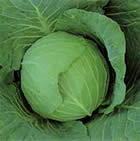cabbage: (20, 30, 114, 124)
